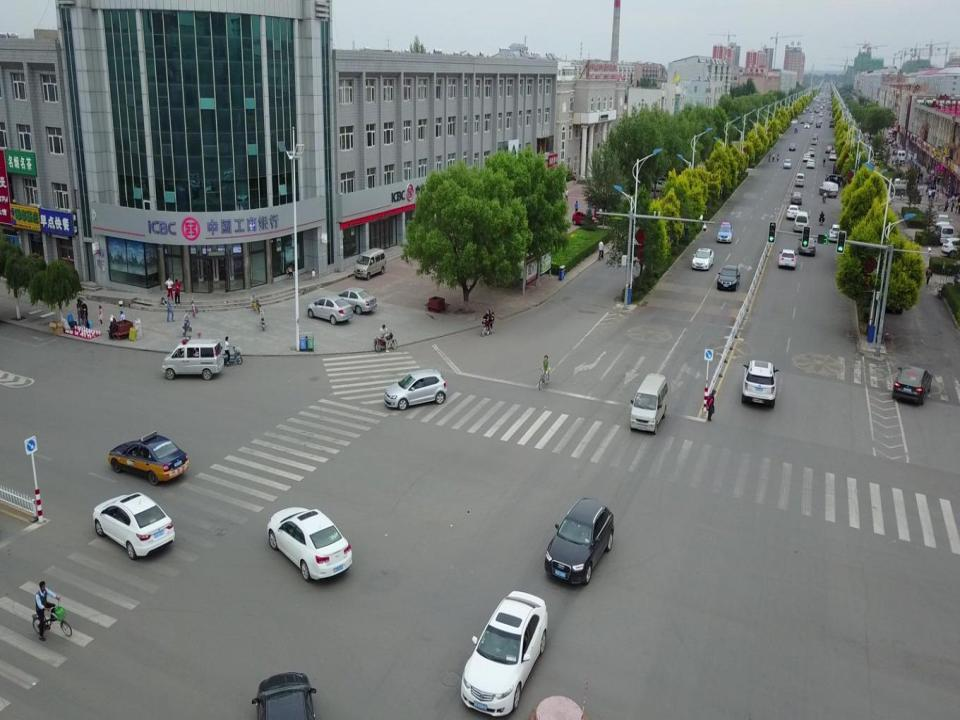car: (460, 589, 549, 717), (266, 505, 353, 582), (543, 497, 615, 588), (92, 490, 176, 560), (107, 430, 191, 487), (252, 670, 318, 720), (384, 367, 448, 411), (741, 360, 779, 410), (892, 364, 934, 406), (306, 295, 353, 326), (335, 286, 377, 315), (717, 264, 740, 291), (691, 248, 714, 271), (797, 235, 817, 258), (778, 248, 798, 270), (941, 236, 960, 259), (717, 221, 734, 244), (572, 211, 598, 226), (935, 213, 952, 233), (828, 223, 845, 242), (786, 204, 800, 220), (790, 191, 802, 205), (783, 159, 792, 169), (806, 159, 815, 169), (788, 142, 796, 152), (829, 150, 837, 160), (802, 152, 810, 162), (824, 145, 833, 153), (807, 148, 815, 156)
van: (162, 335, 224, 381), (629, 371, 668, 438), (353, 248, 387, 280), (794, 211, 811, 235), (937, 224, 955, 246), (818, 180, 838, 198), (893, 178, 911, 193), (794, 172, 806, 188), (895, 150, 906, 162)
